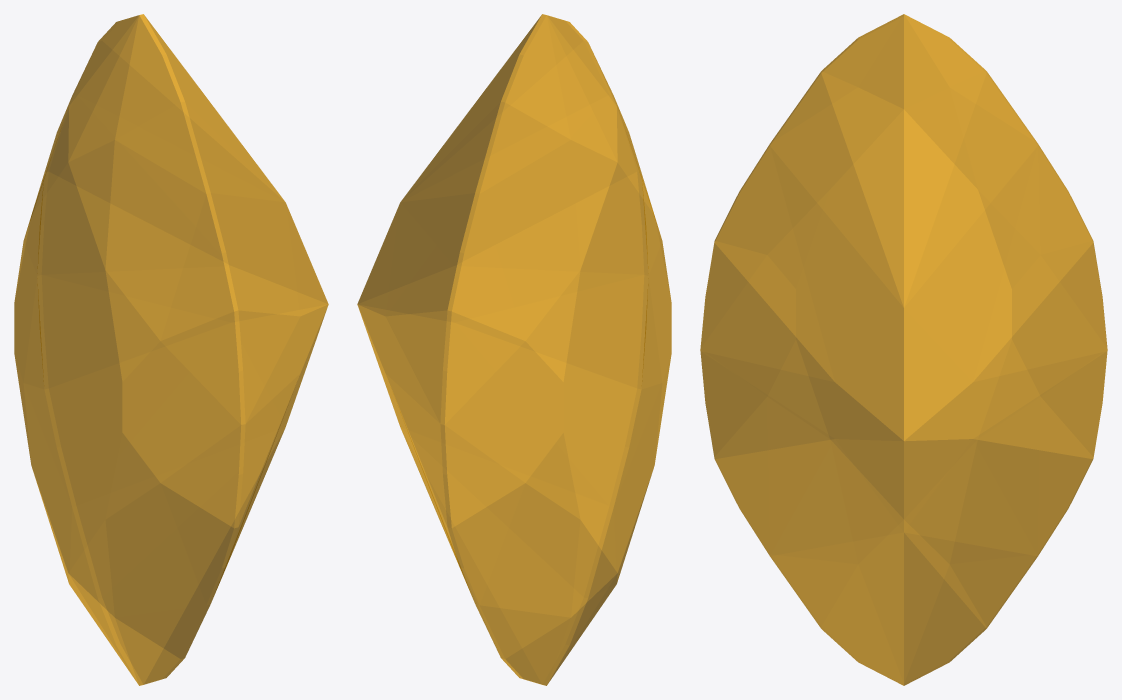
Rendered from marquise citrine.glb.
3 renders of one model, left to right at view 1: azimuth 30°, elevation 25°; view 2: azimuth 150°, elevation 25°; view 3: azimuth 270°, elevation 25°, orthographic.
Visible parts, largest first — view 1: Marquise; view 2: Marquise; view 3: Marquise.
Boxes of the visible parts, x1,y1,x2,y2 form: Marquise: (14, 14, 328, 685); Marquise: (357, 14, 671, 685); Marquise: (700, 14, 1107, 685).
Size of the model in its own units: 0.8446 by 2.08 by 1.15.
